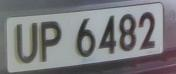2: (137, 7, 159, 56)
4: (97, 10, 119, 61)
6: (73, 13, 98, 64)
8: (117, 8, 139, 56)
P: (38, 16, 66, 67)
U: (12, 19, 41, 68)
